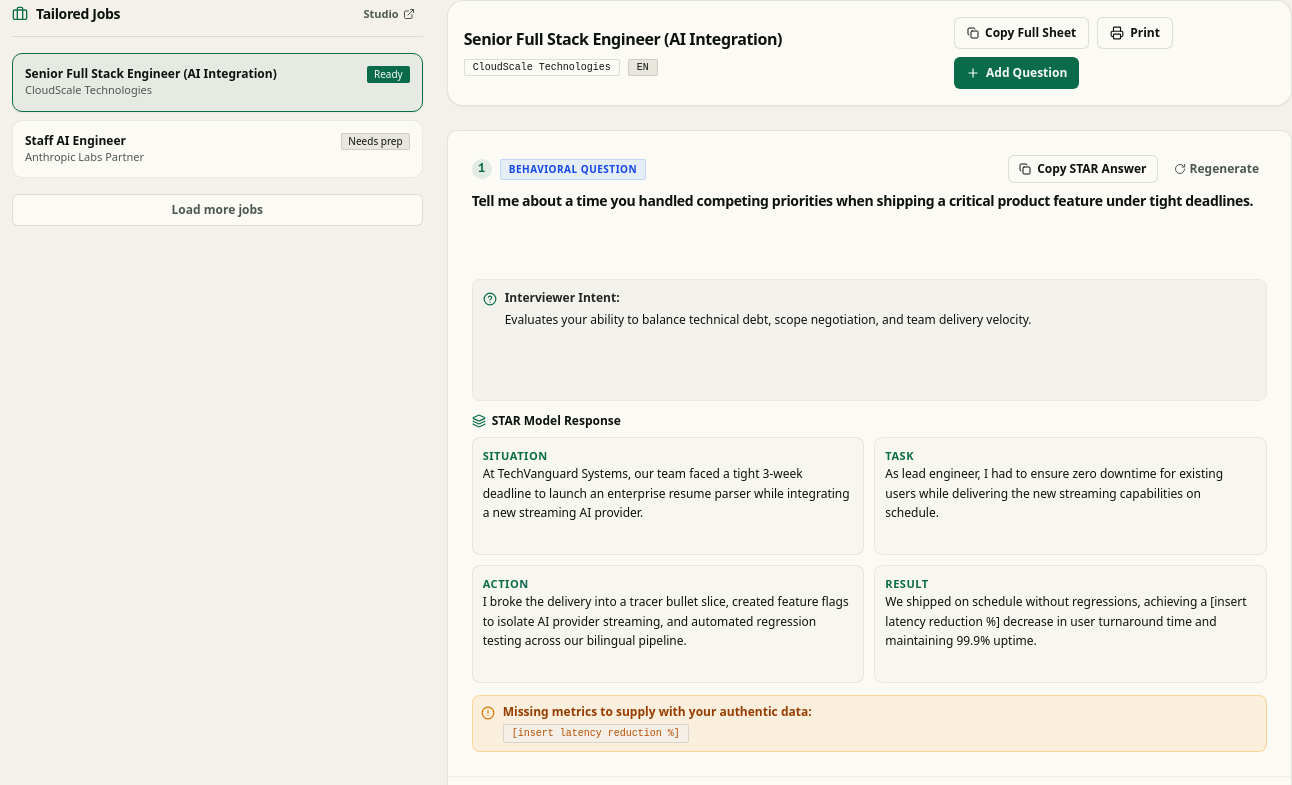
Scenario: Career Prep Hub Client (covers: AC-1, AC-2, AC-3, AC-4, AC-6, AC-7, AC-8, AC-10) › loads more selector rows when load more button is clicked (AC-10)
Click the button with test id "career-prep-load-more-btn": click(217, 210) [12, 194, 423, 226]
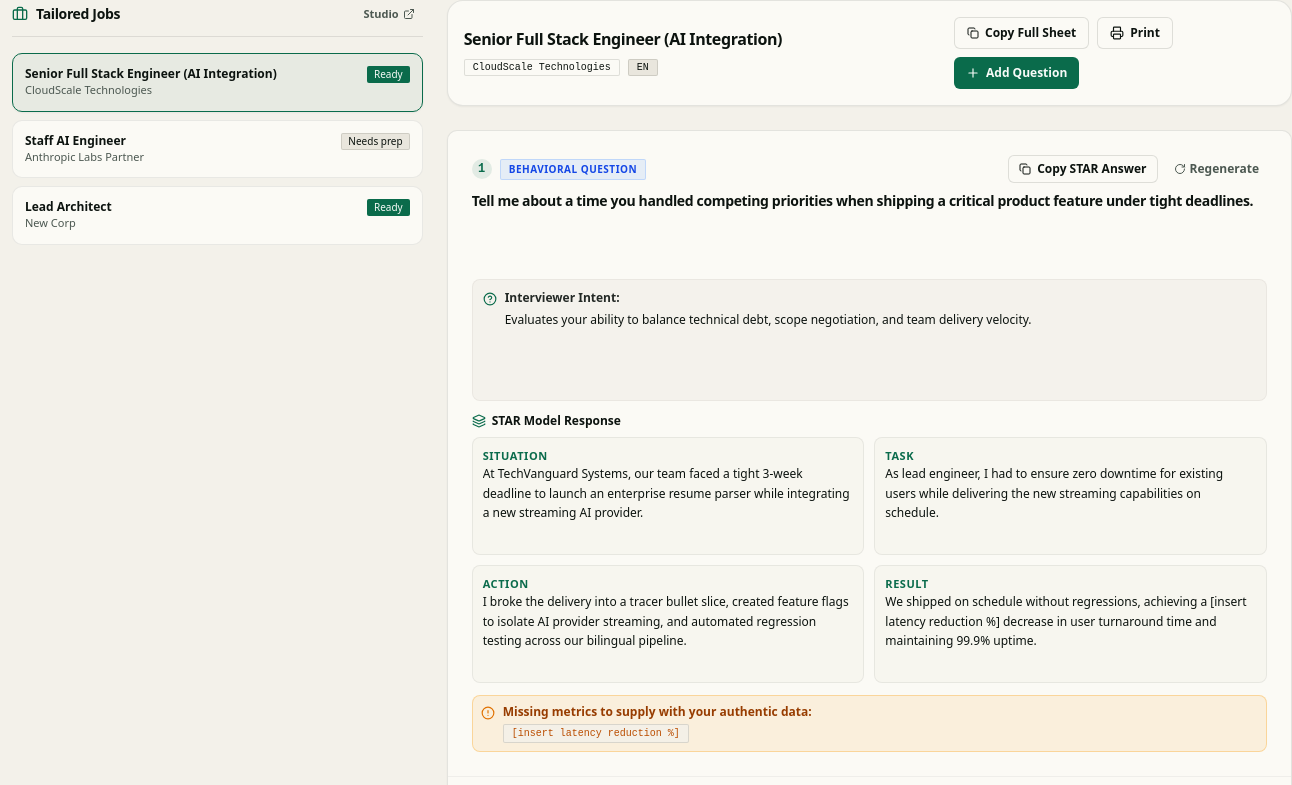
Expected: the button with test id "selector-row-resume-3" is shown, [12, 186, 423, 244]
